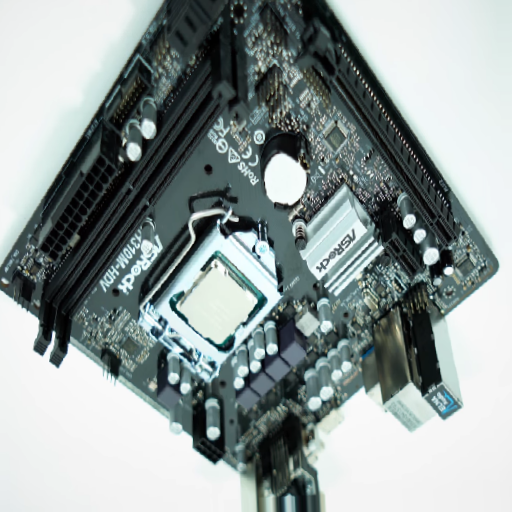CPU: (146, 224, 284, 378)
GPU: (295, 31, 459, 250)
MOTHERBOARD: (7, 1, 503, 478)
RAM: (36, 31, 251, 368)
